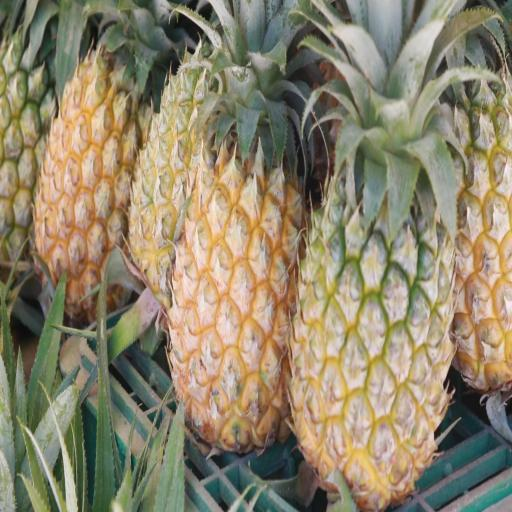------------------------------: (283, 0, 454, 512)
Pineapple - v8 v1: (160, 0, 311, 446), (28, 0, 155, 332), (122, 0, 236, 297)
